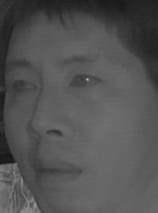eye: (64, 70, 105, 92), (4, 76, 40, 95)
mouth: (27, 155, 83, 186)
